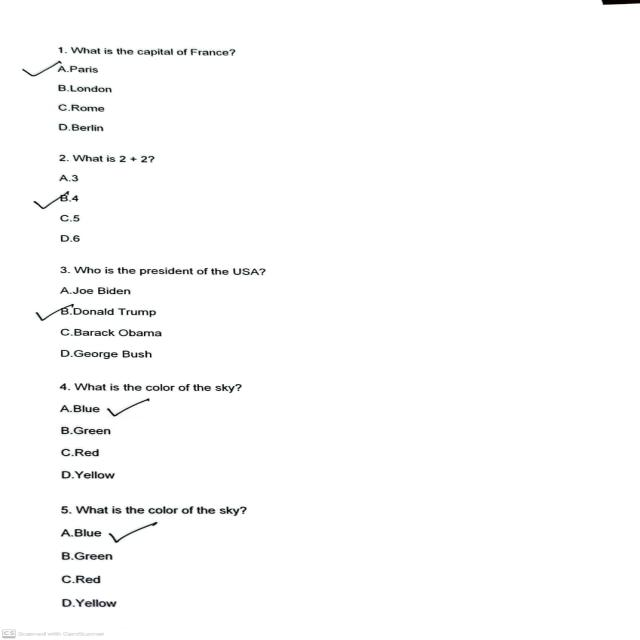Student_Ticked: (106, 521, 162, 542), (104, 395, 155, 418), (30, 188, 72, 212), (23, 59, 67, 79), (38, 301, 76, 321)
